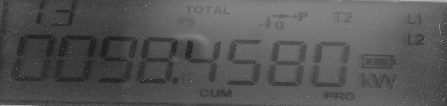0: (10, 26, 58, 90), (55, 31, 98, 93), (309, 38, 354, 89)
4: (184, 36, 223, 87)
5: (227, 33, 265, 92), (99, 31, 135, 91)
8: (265, 34, 308, 92), (134, 33, 177, 87)
d: (168, 74, 187, 92)
